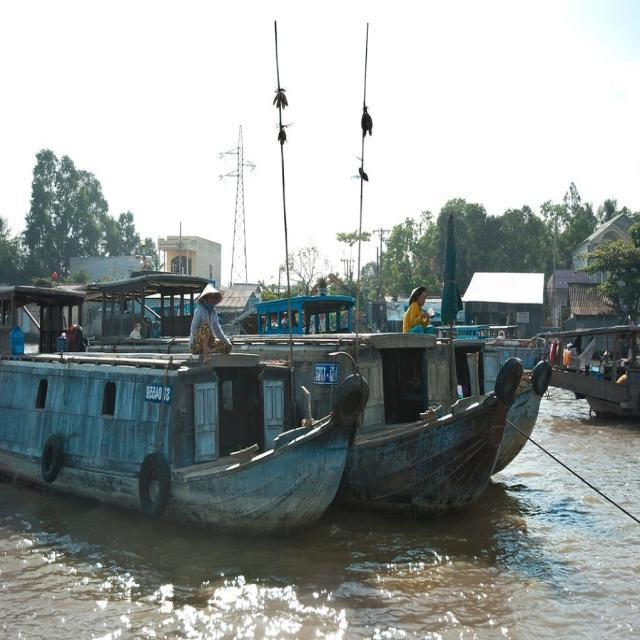boat: (0, 357, 367, 533)
